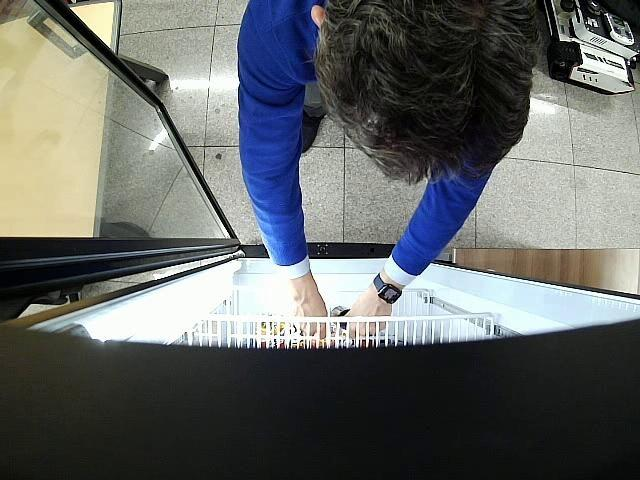17_vita500: (331, 305, 352, 330)
